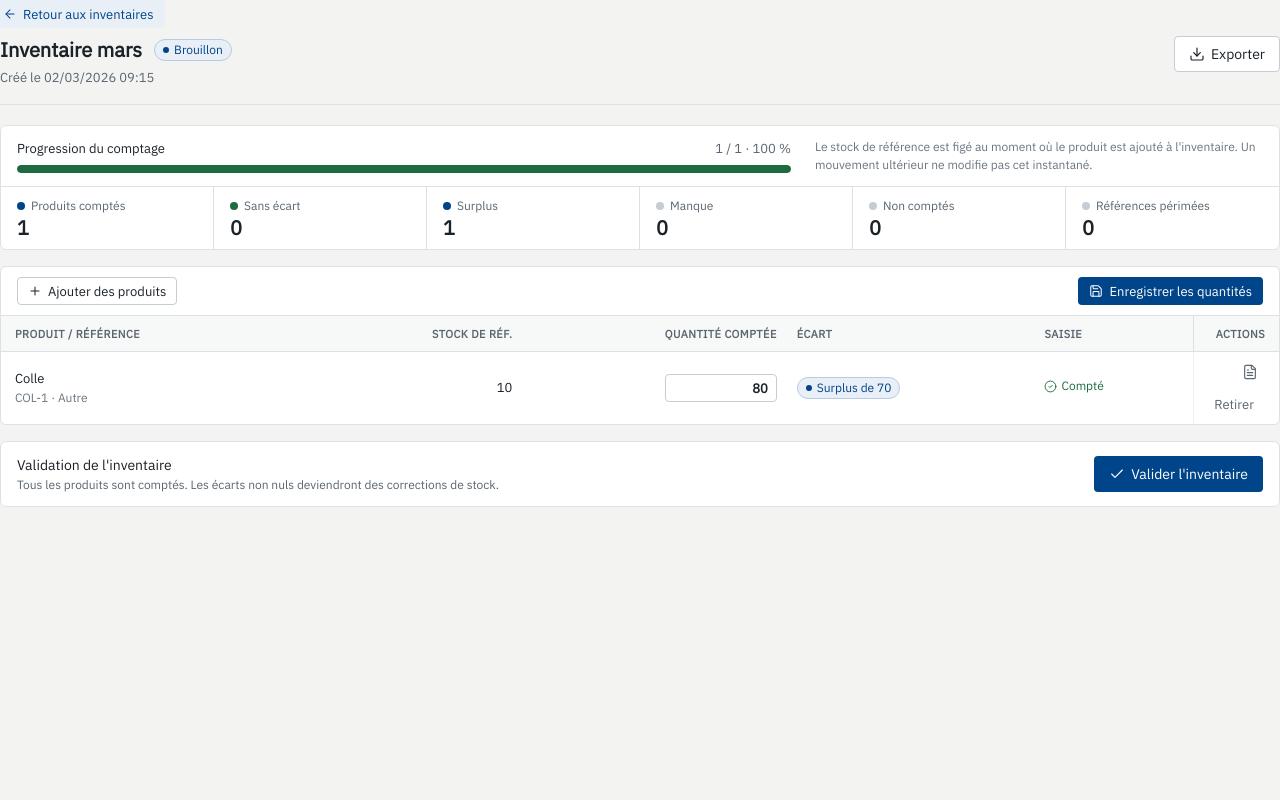
Test case: saisie d'un inventaire › bloque la validation tant qu'une quantité modifiée n'est pas enregistrée
The image size is (1280, 800).
Check: the button "Valider l'inventaire" is enabled, box left=1094, top=456, right=1263, bottom=492
Replace the text in the field named "Quantité comptée de Colle" with "8": (721, 388) left=665, top=374, right=777, bottom=402
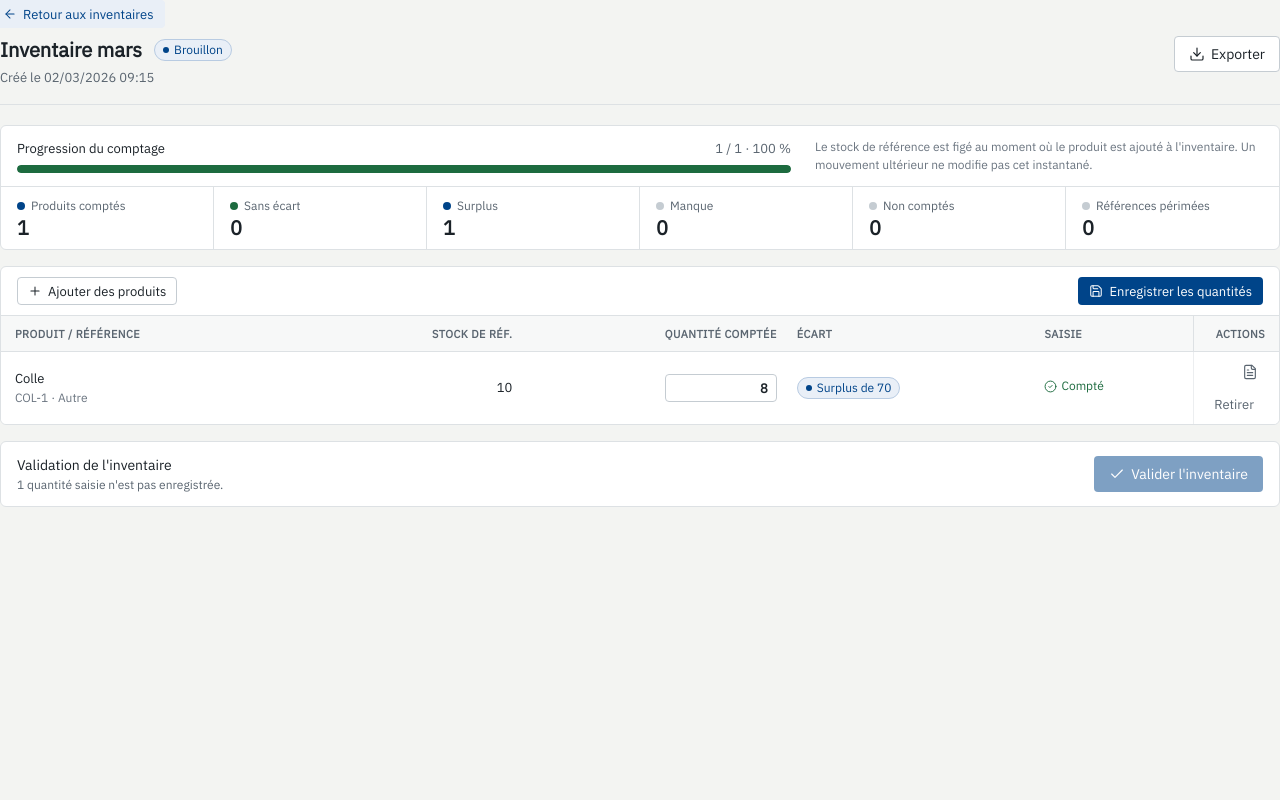
Check: the button "Valider l'inventaire" is disabled, box left=1094, top=456, right=1263, bottom=492
Check: the text "1 quantité saisie n'est pas enregistrée." is shown, box left=17, top=476, right=223, bottom=494
// Une écriture équivalente (virgule, zéros) n'est pas une modification.
Replace the text in the field named "Quantité comptée de Colle" with "80,000": (721, 388) left=665, top=374, right=777, bottom=402
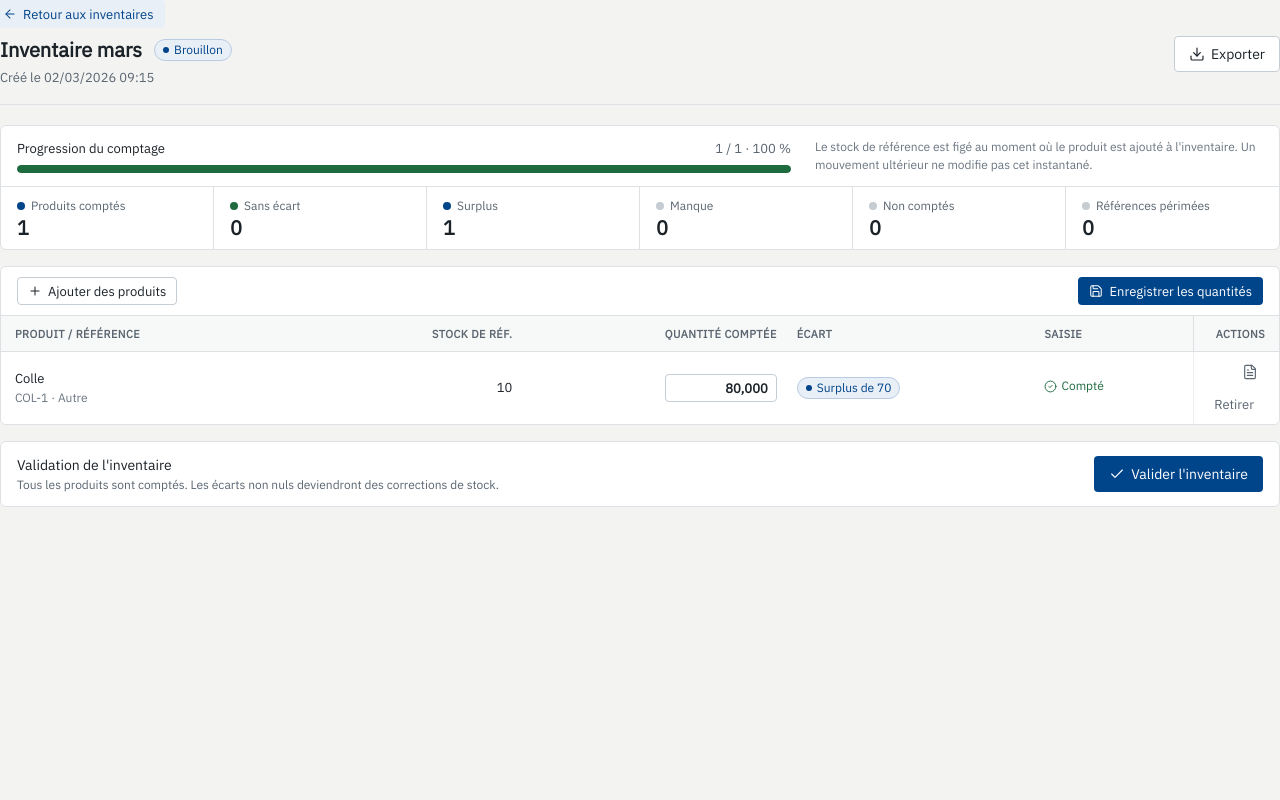
Check: the button "Valider l'inventaire" is enabled, box left=1094, top=456, right=1263, bottom=492
Replace the text in the field named "Quantité comptée de Colle" with "8": (721, 388) left=665, top=374, right=777, bottom=402
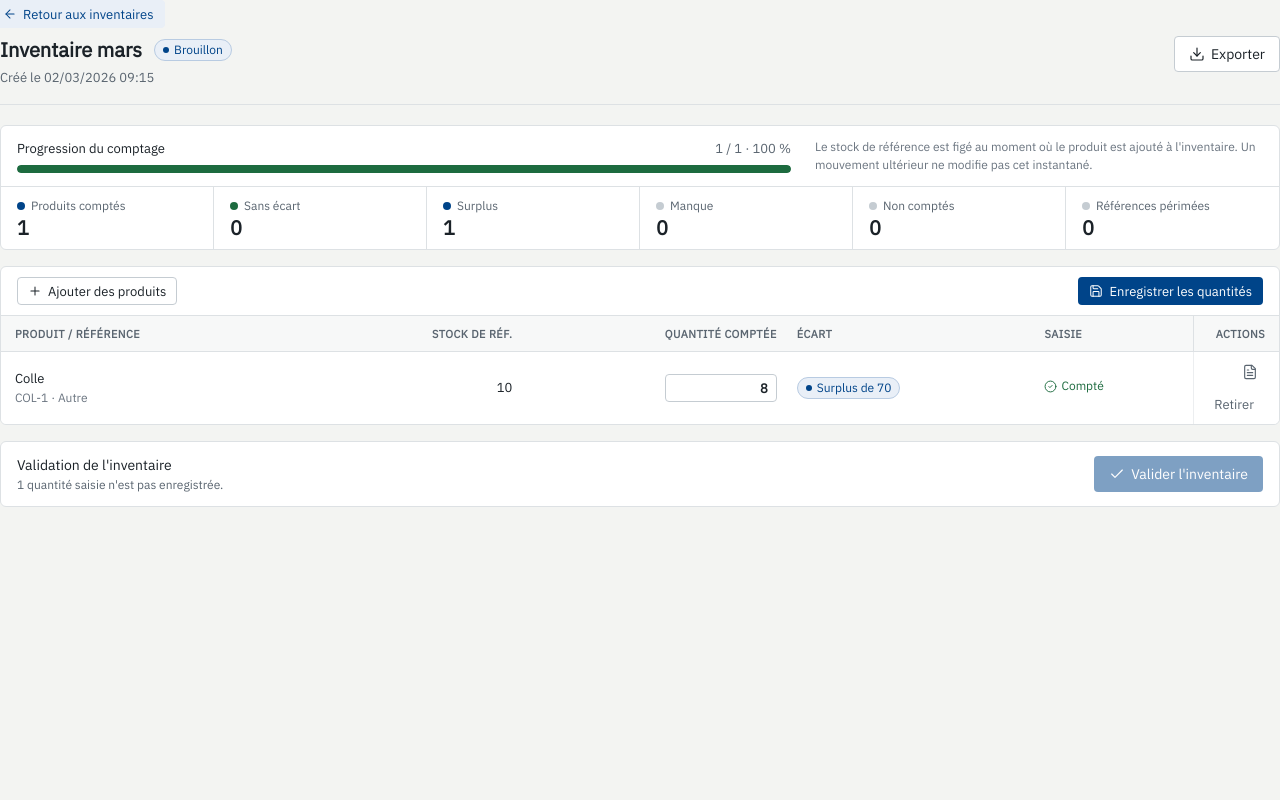
Click the button "Enregistrer les quantités": (1171, 291) left=1078, top=277, right=1263, bottom=305
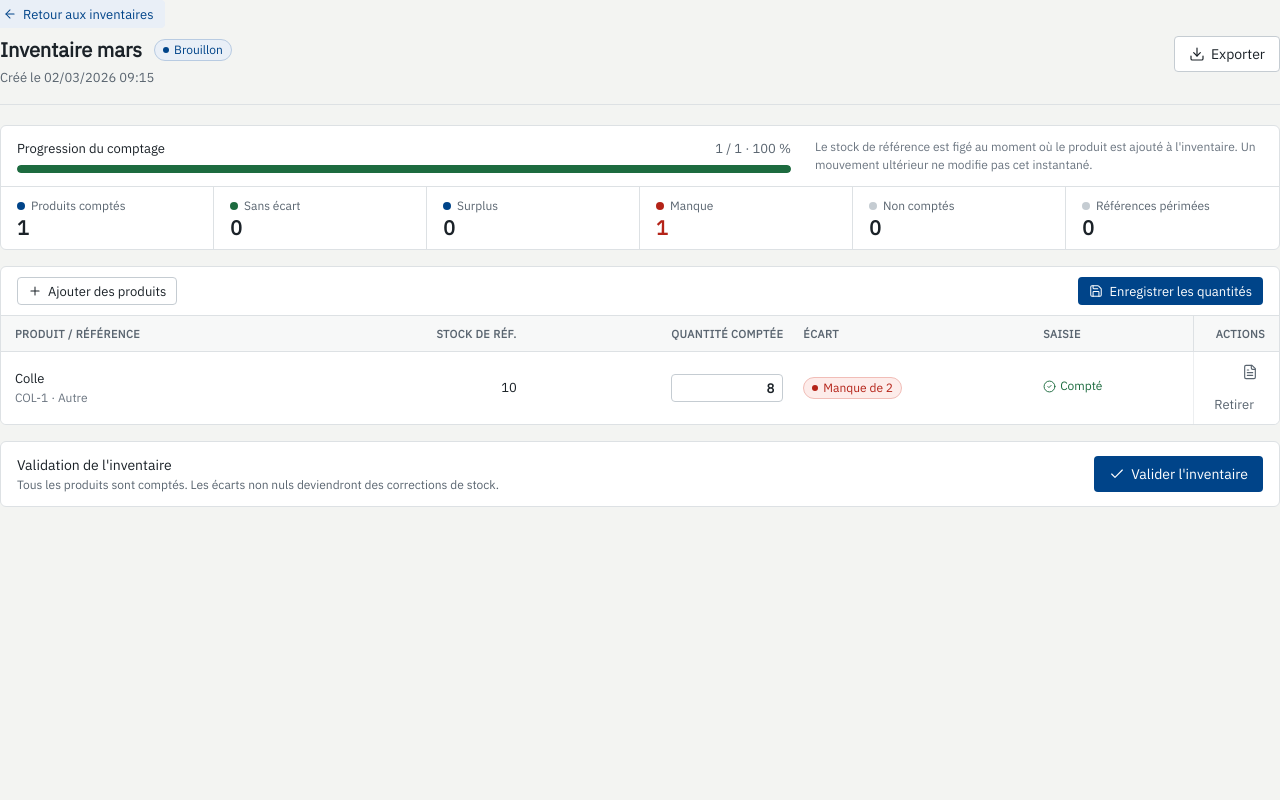
Check: the text "Manque de 2" is shown, box left=803, top=377, right=902, bottom=399
Check: the button "Valider l'inventaire" is enabled
Click the button "Valider l'inventaire": (1179, 474) left=1094, top=456, right=1263, bottom=492
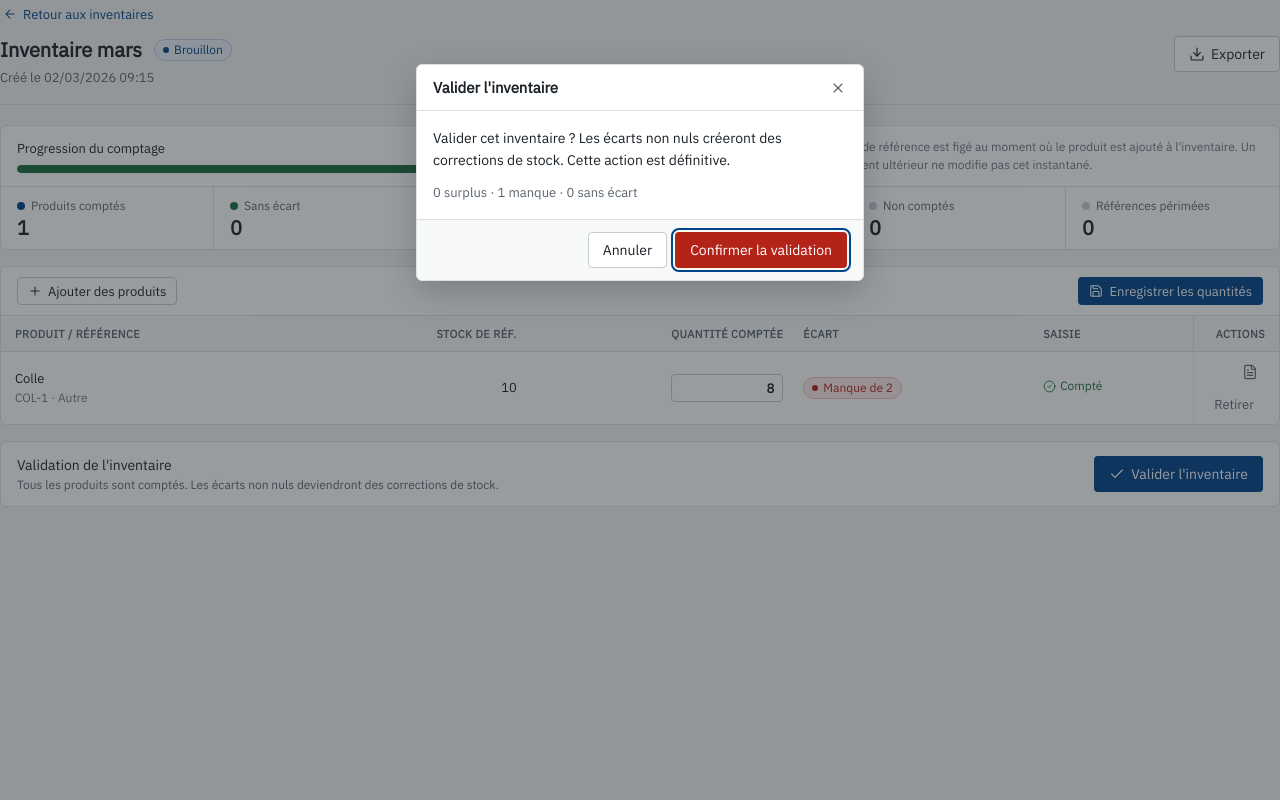
Click the button "Confirmer la validation": (761, 250) left=675, top=232, right=847, bottom=268
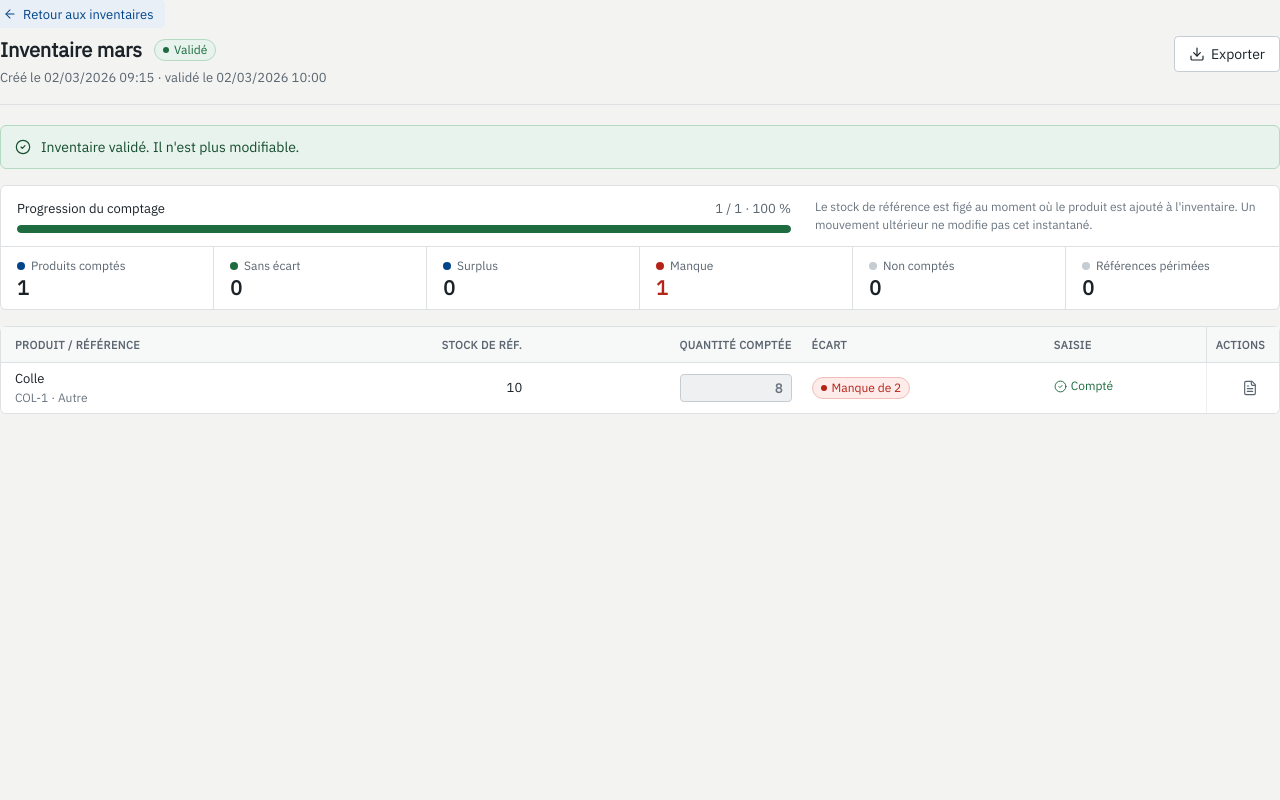
Check: the text "Inventaire validé. Il n'est plus modifiable." is shown, box left=41, top=138, right=299, bottom=156
